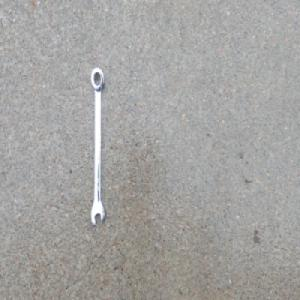Wrench: (90, 65, 105, 227)
